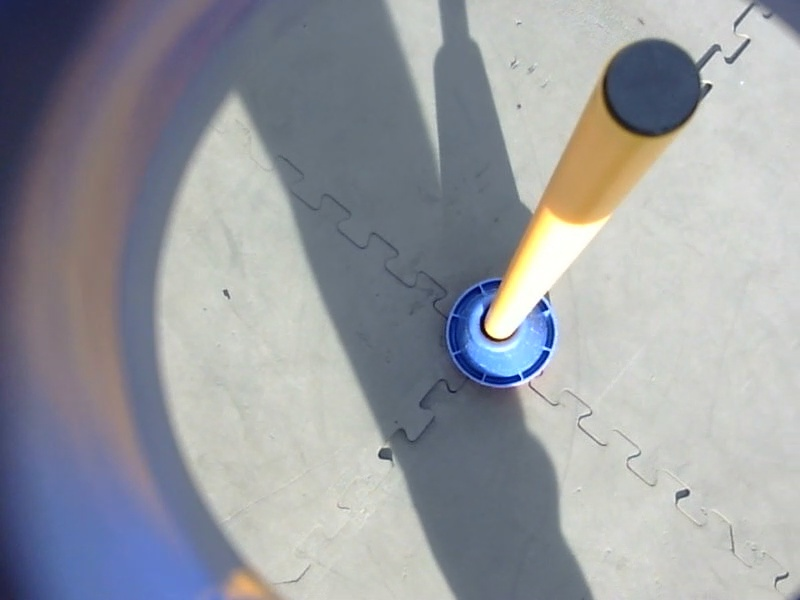tip: (593, 33, 711, 146)
